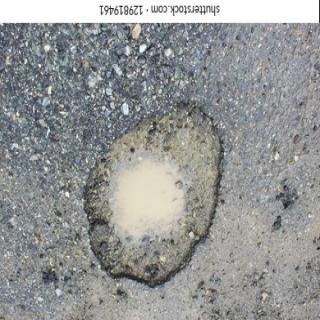pothole: (83, 105, 224, 288)
